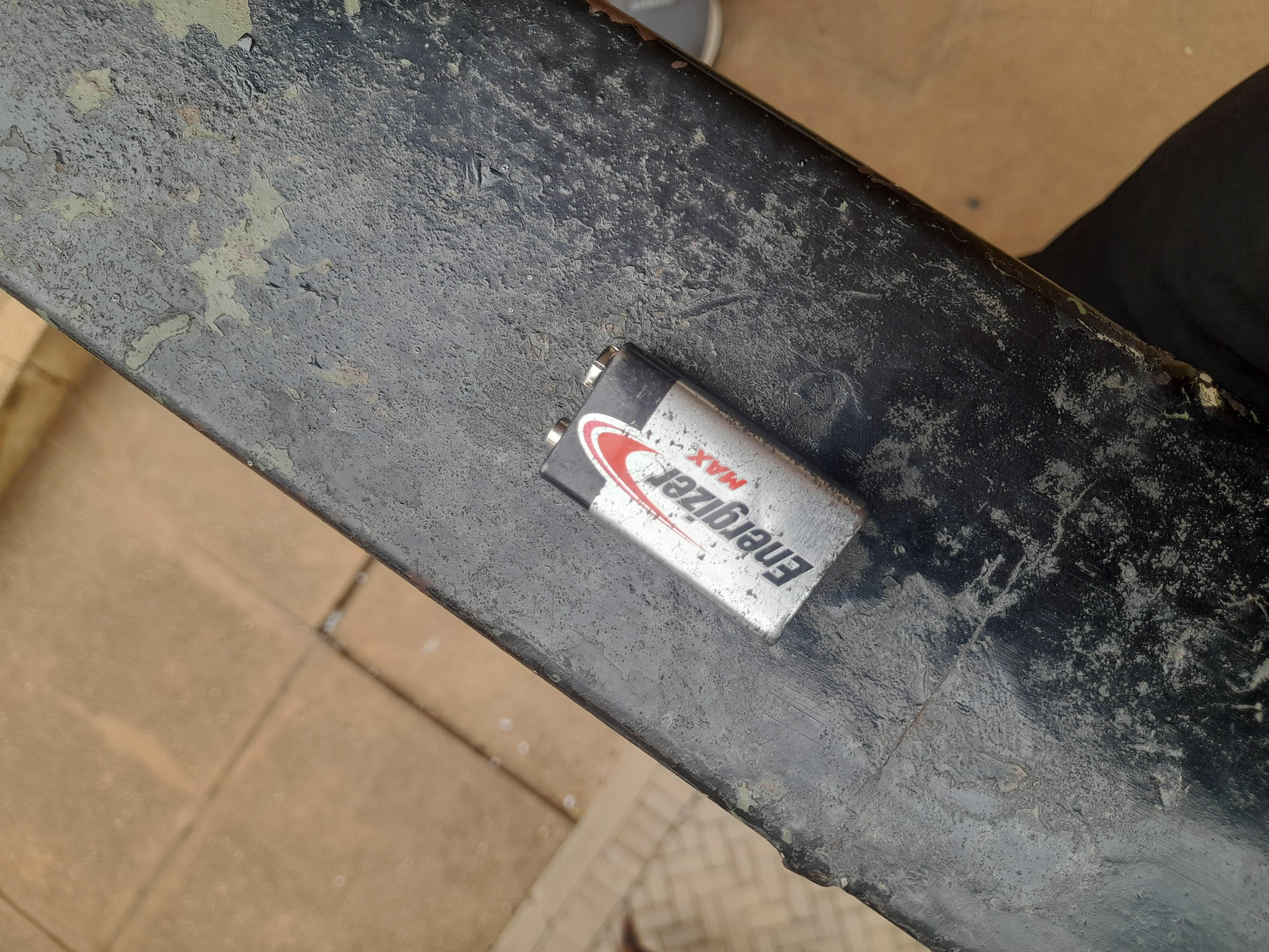9V: (402, 372, 835, 667)
